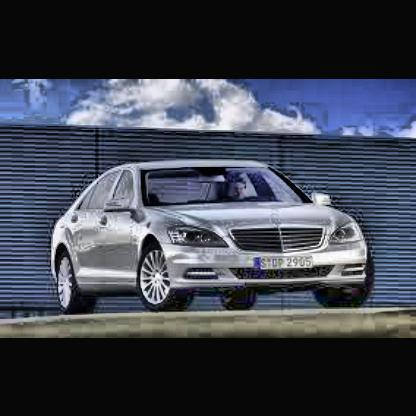Mercedes-Benz S-Class Sedan 2012: (49, 163, 374, 316)
